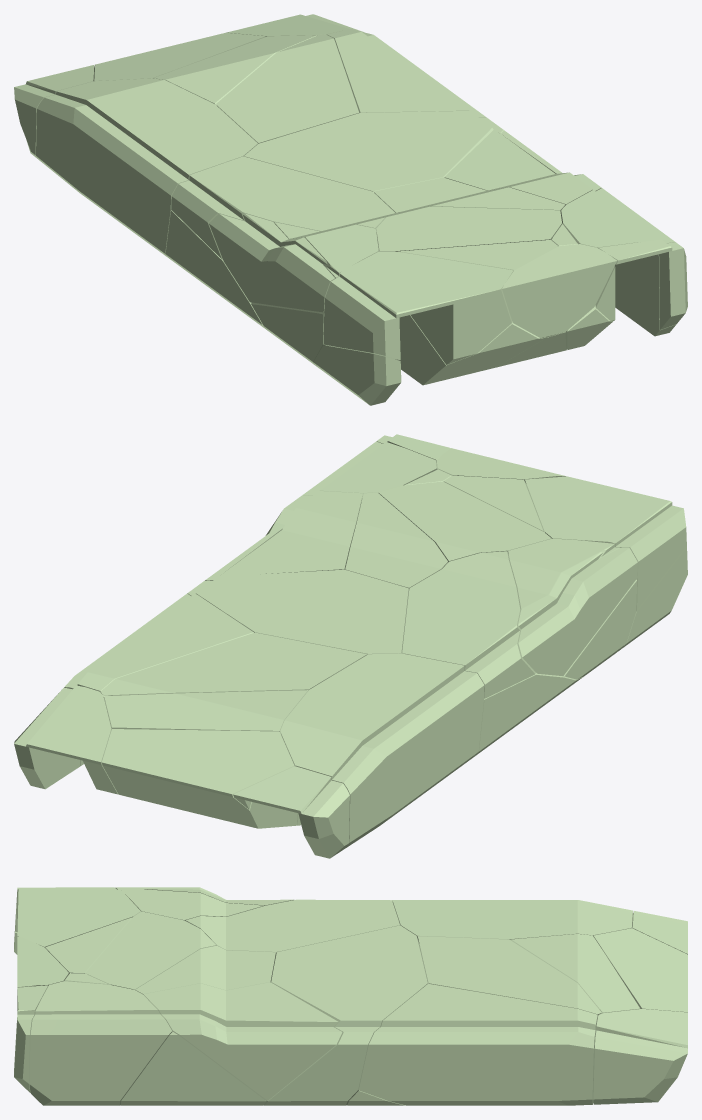
File: tank_body_d.fbx
The picture shows the model from 3 angles, top to bottom: view 1: azimuth 30°, elevation 25°; view 2: azimuth 150°, elevation 25°; view 3: azimuth 270°, elevation 25°; orthographic projection. The views are drawn at different scales.
Visible parts, largest first — view 1: Tank_cell.024, Tank_cell.010, Tank_cell.005, Tank_cell.009, Tank_cell.008, Tank_cell.015, Tank_cell.004, Tank_cell.007, Tank_cell.030, Tank_cell.021, Tank_cell.016, Tank_cell.017 (+12 smaller); view 2: Tank_cell.024, Tank_cell.013, Tank_cell.005, Tank_cell.009, Tank_cell.010, Tank_cell.008, Tank_cell.015, Tank_cell.016, Tank_cell.001, Tank_cell.023, Tank_cell.030, Tank_cell.021 (+9 smaller); view 3: Tank_cell.021, Tank_cell.005, Tank_cell.007, Tank_cell.016, Tank_cell.024, Tank_cell.001, Tank_cell.008, Tank_cell.009, Tank_cell.014, Tank_cell.030, Tank_cell.010, Tank_cell.013 (+9 smaller).
Boxes of the visible parts, x1,y1,x2,y2 form: Tank_cell.024: (36,78,257,259); Tank_cell.010: (323,251,513,364); Tank_cell.005: (244,111,503,192); Tank_cell.009: (171,156,398,259); Tank_cell.008: (216,34,359,143); Tank_cell.015: (209,213,334,312); Tank_cell.004: (502,244,617,337); Tank_cell.007: (560,188,676,336); Tank_cell.030: (376,206,561,251); Tank_cell.021: (327,29,486,117); Tank_cell.016: (444,129,601,205); Tank_cell.017: (251,222,378,366); Tank_cell.024: (280,653,484,849); Tank_cell.013: (102,729,297,828); Tank_cell.005: (187,569,409,654); Tank_cell.009: (402,551,535,698); Tank_cell.010: (525,476,686,610); Tank_cell.008: (101,632,366,695); Tank_cell.015: (518,547,637,675); Tank_cell.016: (205,491,362,580); Tank_cell.001: (14,685,118,794); Tank_cell.023: (104,690,308,825); Tank_cell.030: (378,481,551,562); Tank_cell.021: (64,593,253,765); Tank_cell.021: (359,983,597,1105); Tank_cell.005: (263,925,428,1105); Tank_cell.007: (29,981,172,1105); Tank_cell.016: (143,982,342,1100); Tank_cell.024: (391,900,633,943); Tank_cell.001: (593,1009,687,1104); Tank_cell.008: (418,936,601,1015); Tank_cell.009: (185,899,399,953); Tank_cell.014: (120,1032,266,1105); Tank_cell.030: (86,911,216,989); Tank_cell.010: (15,887,140,947); Tank_cell.013: (593,928,687,1012).
Bounding box in the file's own units: 84.52 × 27.82 × 174.
